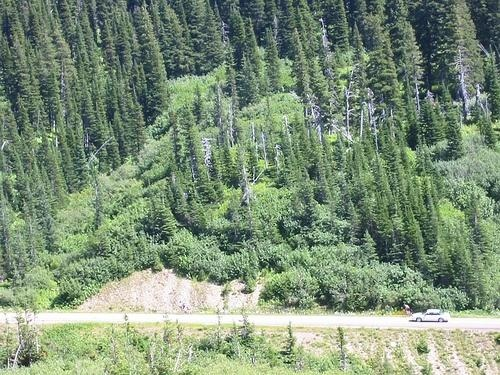car: (408, 308, 453, 326)
